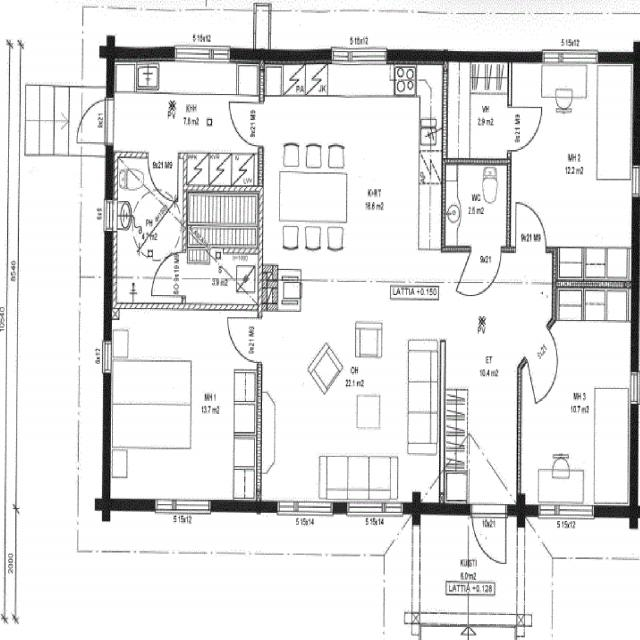door: (525, 326, 570, 392), (472, 506, 506, 568), (72, 100, 111, 143), (470, 248, 502, 300), (515, 202, 546, 254), (225, 318, 261, 362), (148, 152, 178, 202), (227, 102, 260, 146), (506, 108, 540, 150), (153, 253, 186, 295)
